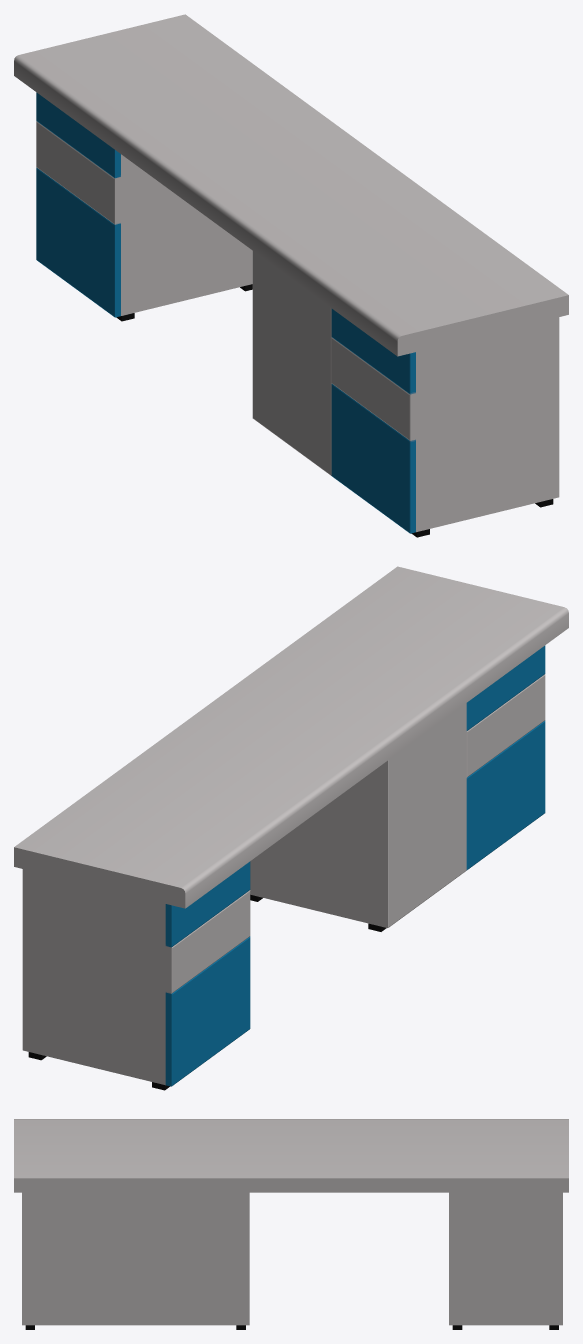
The model's file is LabDeskLong.fbx.
3 views of the same model, one above another, from view 1: azimuth 30°, elevation 25°; view 2: azimuth 150°, elevation 25°; view 3: azimuth 270°, elevation 25° (orthographic). The views are drawn at different scales.
Visible parts, largest first — view 1: LabDeskB1; view 2: LabDeskB1; view 3: LabDeskB1.
Boxes of the visible parts, box(x1,y1,x2,y2) form: LabDeskB1: box(14, 14, 568, 537); LabDeskB1: box(14, 566, 568, 1090); LabDeskB1: box(14, 1119, 568, 1329).
Size of the model in its own units: 76.04 by 90.36 by 295.
